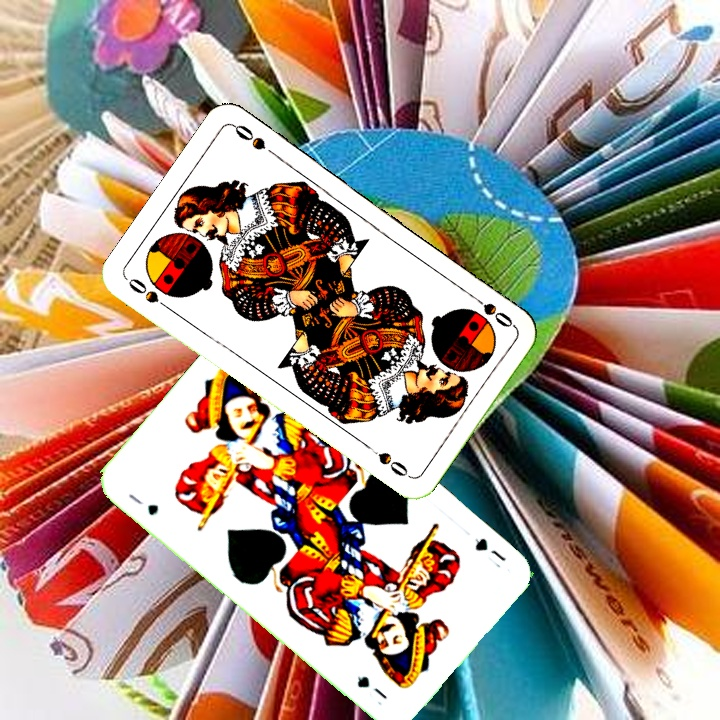GU: (470, 533, 509, 571), (124, 489, 161, 519)
SO: (465, 289, 517, 330), (122, 274, 174, 314)
